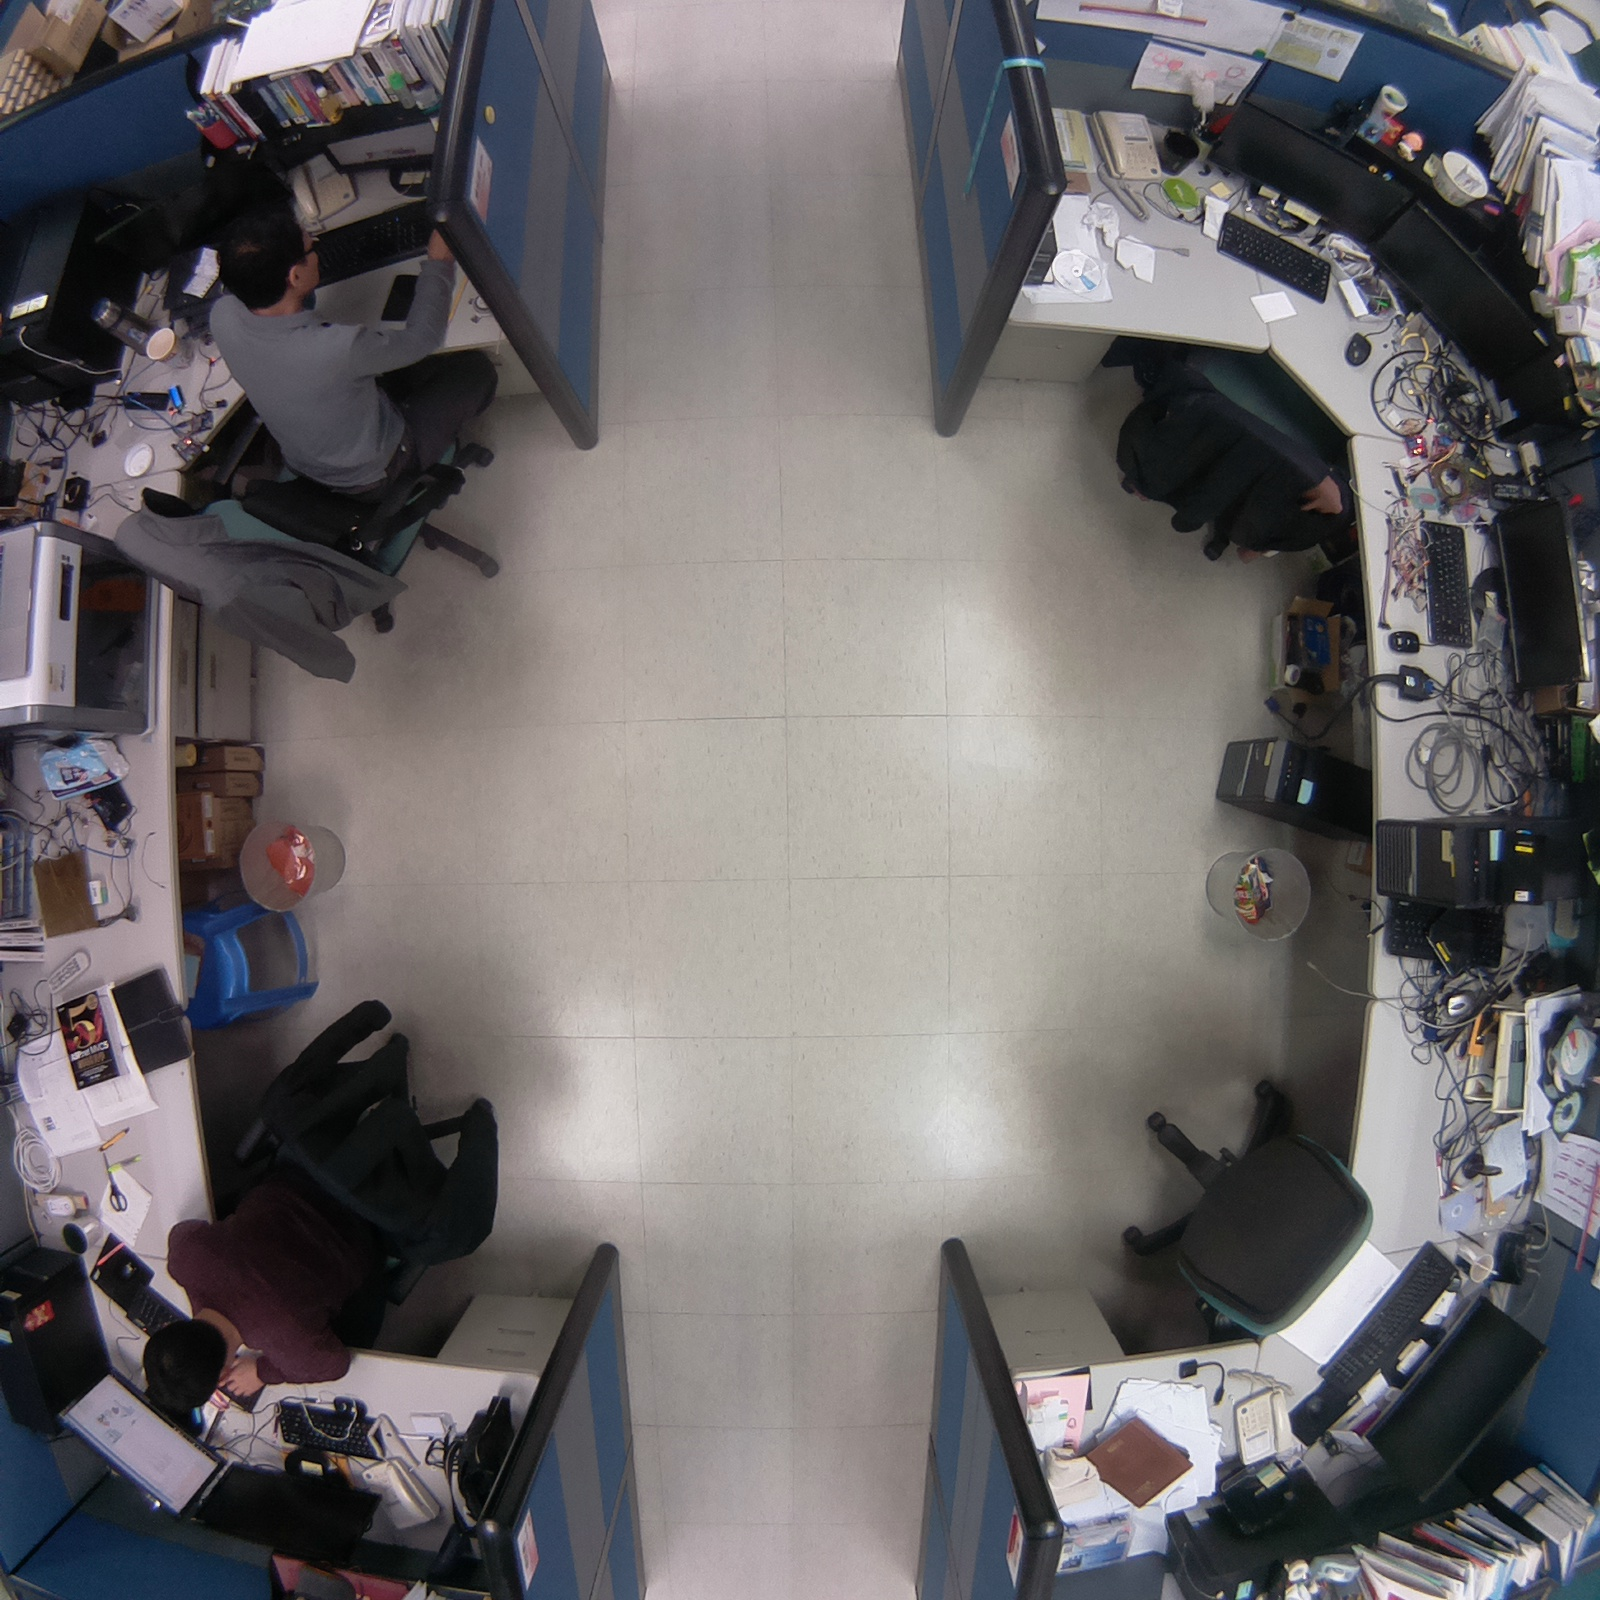chair: (1089, 1061, 1396, 1368), (1067, 312, 1396, 582)
sitting: (84, 180, 527, 699), (129, 982, 516, 1436)
